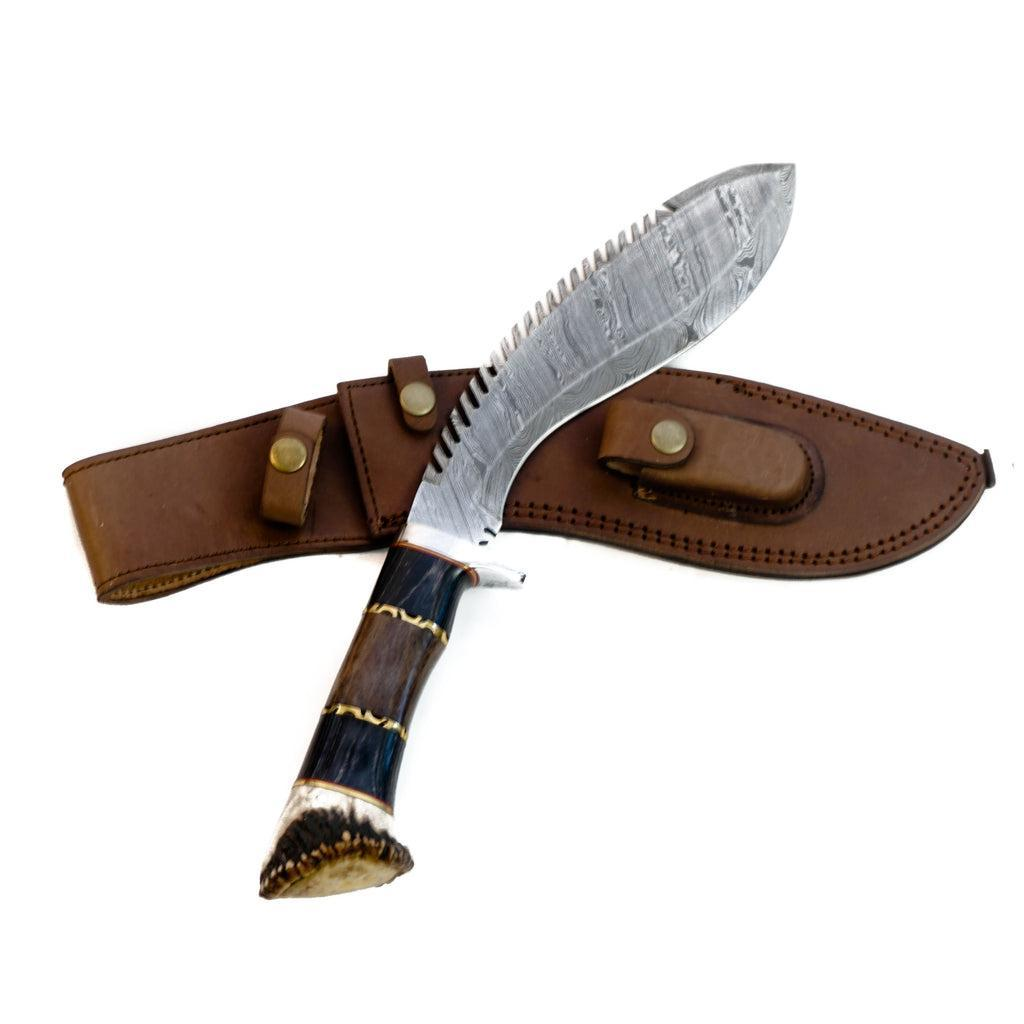facao: (260, 165, 794, 898)
